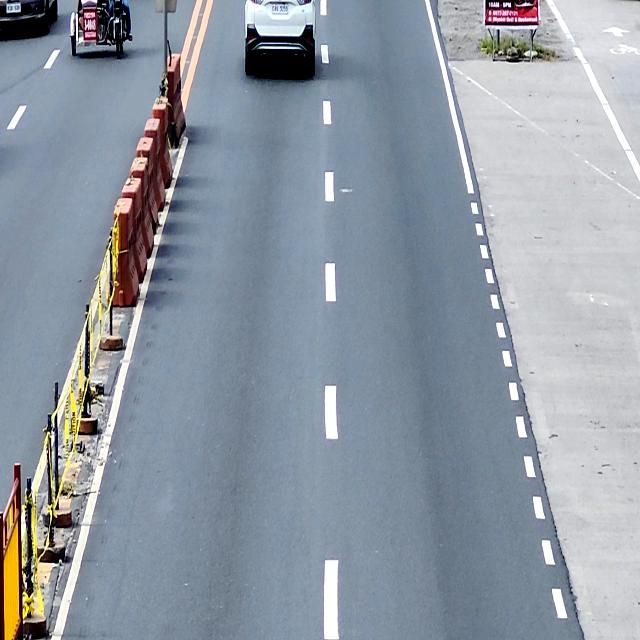Car: (244, 0, 316, 76), (0, 0, 58, 36)
License-Plate: (271, 1, 289, 17)
Tricycle: (68, 0, 132, 59)
